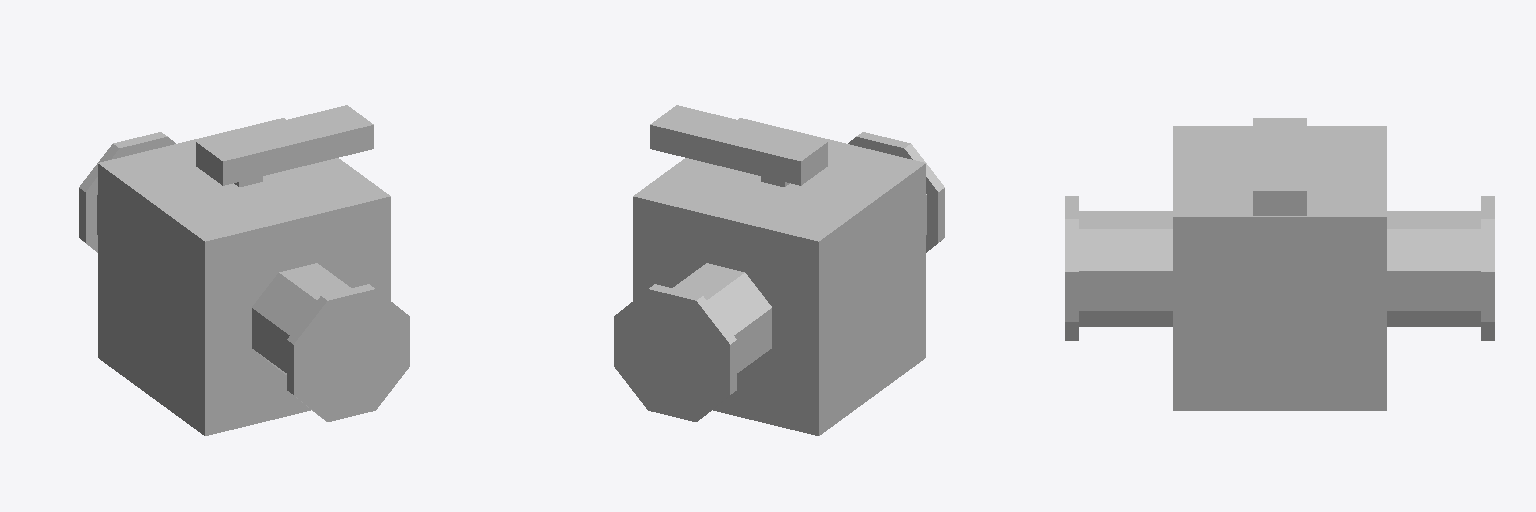
Rendered from pipeworks_valve_off_lowpoly.obj.
The picture shows the model from 3 angles: view 1: azimuth 30°, elevation 25°; view 2: azimuth 150°, elevation 25°; view 3: azimuth 270°, elevation 25°; orthographic projection.
Visible parts, largest first — view 1: Cube.003_Cube.003_None; view 2: Cube.003_Cube.003_None; view 3: Cube.003_Cube.003_None.
Boxes of the visible parts, box(x1,y1,x2,y2) form: Cube.003_Cube.003_None: box(79, 105, 409, 435); Cube.003_Cube.003_None: box(614, 105, 944, 435); Cube.003_Cube.003_None: box(1065, 118, 1494, 410).
Bounding box in the file's own units: 0.5625 × 0.5938 × 1.